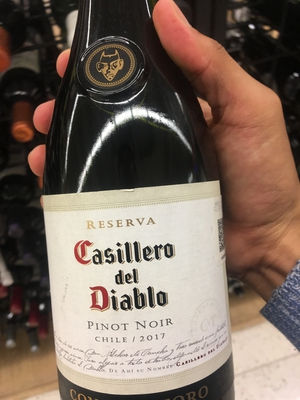casillero del diablo pinot noir: (28, 22, 234, 400)
